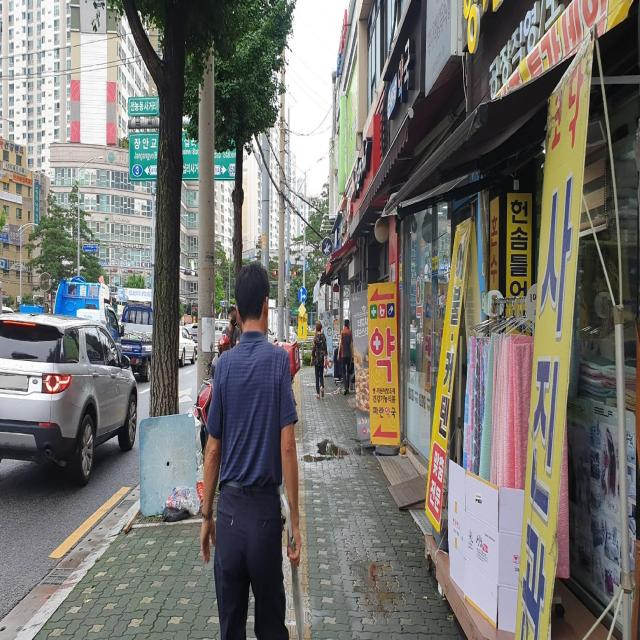car ahead at: (0, 311, 140, 500)
person ahead at: (202, 259, 306, 640)
tree ahead at: (129, 2, 188, 421)
